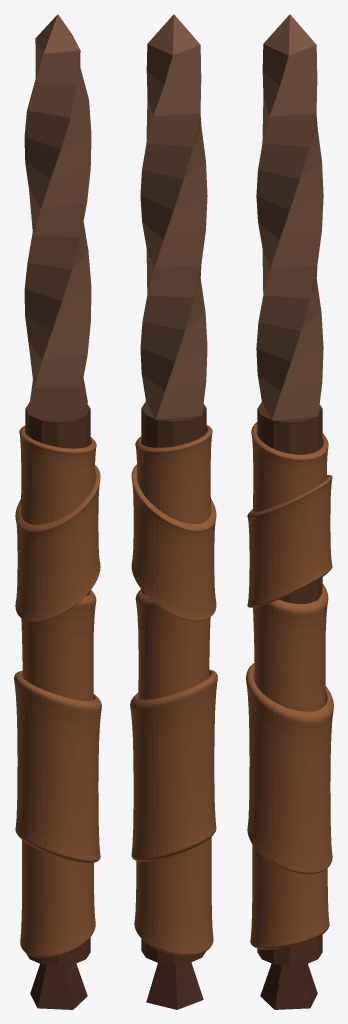
Rendered from Wand 358.glb.
3 views of the same model, side by side, from view 1: azimuth 30°, elevation 25°; view 2: azimuth 150°, elevation 25°; view 3: azimuth 330°, elevation 25° (orthographic).
Parts seen in each view (by area): view 1: GeneratedWand; view 2: GeneratedWand; view 3: GeneratedWand.
Boxes of the visible parts, x1=… form: GeneratedWand: x1=14, y1=14, x2=101, y2=1009; GeneratedWand: x1=130, y1=14, x2=217, y2=1009; GeneratedWand: x1=246, y1=14, x2=333, y2=1009.
Bounding box in the file's own units: 0.0408 × 0.5043 × 0.0408.
